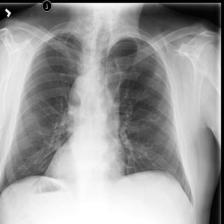normal: (1, 29, 194, 205)
